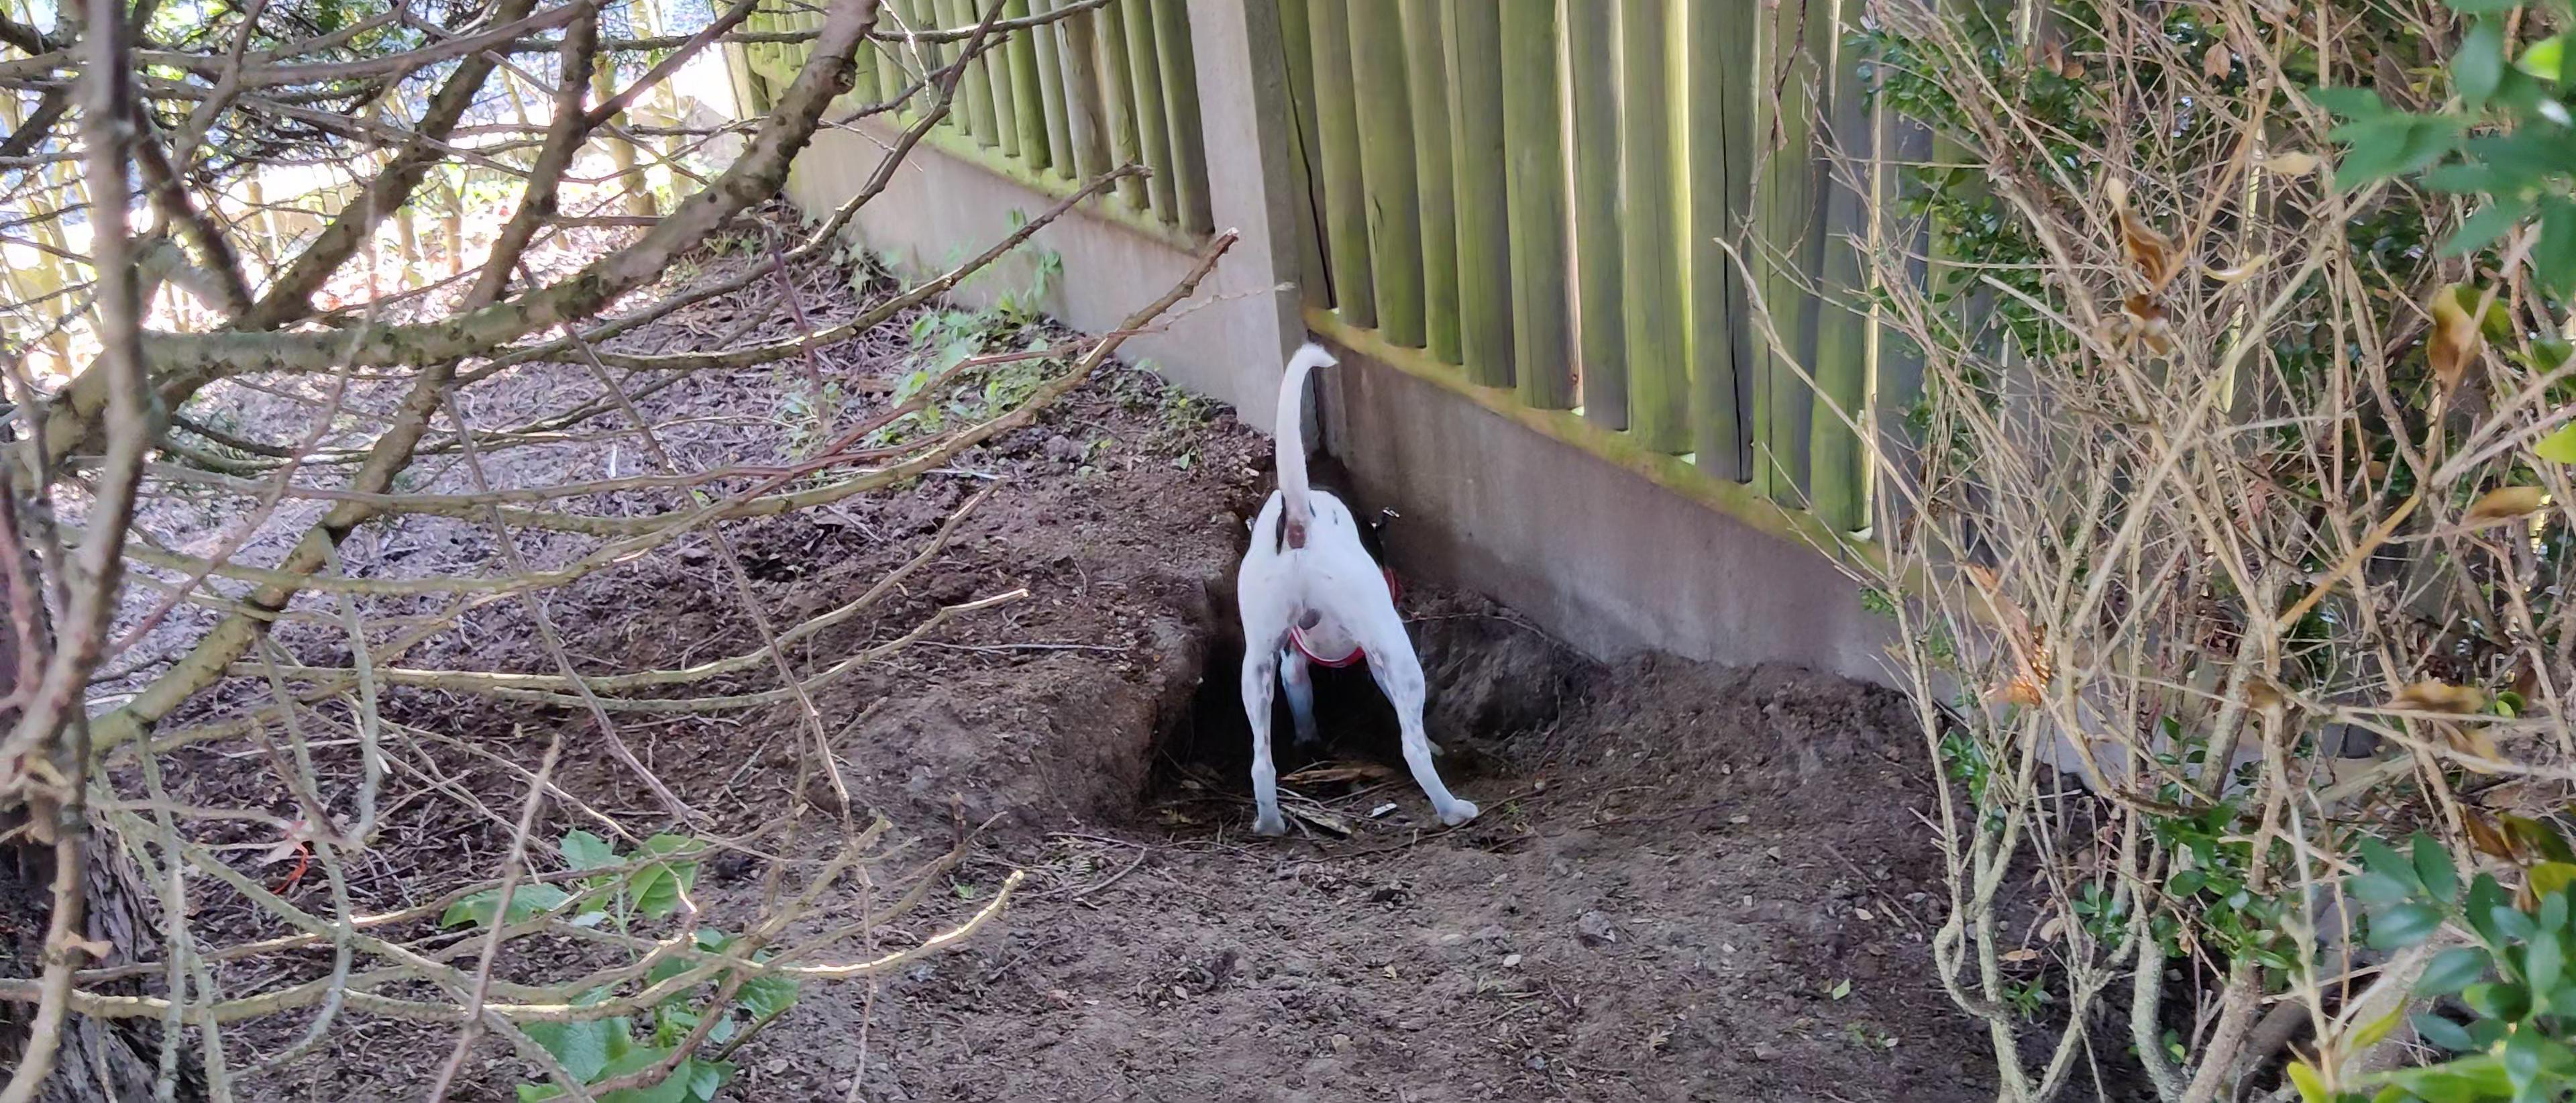Dog: (1184, 322, 1503, 855)
